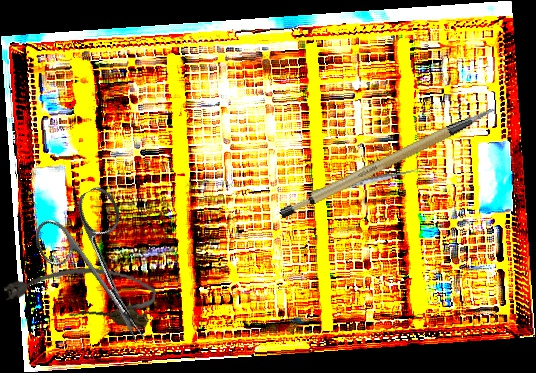Cannula: (1, 255, 158, 330)
Iris Scissors: (25, 182, 182, 362)
Scalpel Handle: (269, 105, 509, 222)
Surgical Spoon: (311, 165, 426, 197)
